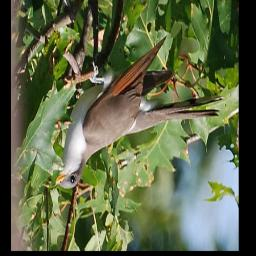Cuckoo: (55, 36, 224, 190)
